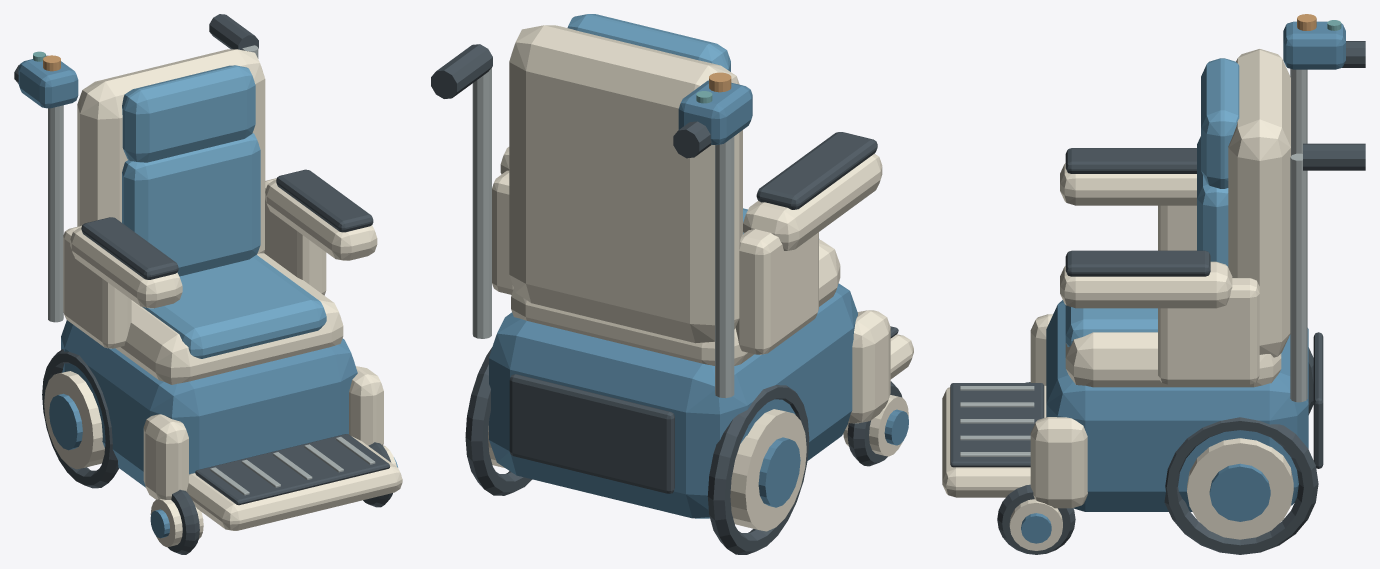
The model's file is transport_T3_wheelchair.glb.
3 renders of one model, left to right at view 1: azimuth 30°, elevation 25°; view 2: azimuth 150°, elevation 25°; view 3: azimuth 270°, elevation 25°, orthographic. The views are drawn at different scales.
Parts seen in each view (by area): view 1: transport_T3_wheelchair__Static_Assembly, left_drive_wheel__Mesh, front_caster_fairing, left_front_caster__Mesh.001, front_caster_fairing.001, right_front_caster__Mesh.001; view 2: transport_T3_wheelchair__Static_Assembly, left_drive_wheel__Mesh, front_caster_fairing, right_drive_wheel__Mesh, left_front_caster__Mesh.001; view 3: transport_T3_wheelchair__Static_Assembly, right_drive_wheel__Mesh, front_caster_fairing.001, right_front_caster__Mesh.001, front_caster_fairing.
Boxes of the visible parts, x1,y1,x2,y2 form: transport_T3_wheelchair__Static_Assembly: [14, 14, 402, 530]; left_drive_wheel__Mesh: [42, 349, 118, 488]; front_caster_fairing: [143, 414, 188, 499]; left_front_caster__Mesh.001: [150, 489, 203, 554]; front_caster_fairing.001: [349, 366, 383, 445]; right_front_caster__Mesh.001: [363, 442, 397, 507]; transport_T3_wheelchair__Static_Assembly: [431, 14, 913, 518]; left_drive_wheel__Mesh: [707, 385, 809, 554]; front_caster_fairing: [848, 310, 890, 423]; right_drive_wheel__Mesh: [465, 347, 532, 495]; left_front_caster__Mesh.001: [843, 381, 908, 466]; transport_T3_wheelchair__Static_Assembly: [942, 14, 1365, 511]; right_drive_wheel__Mesh: [1164, 417, 1318, 554]; front_caster_fairing.001: [1030, 417, 1087, 508]; right_front_caster__Mesh.001: [997, 484, 1075, 554]; front_caster_fairing: [1030, 314, 1052, 385].
Bounding box in the file's own units: 0.76 × 1.22 × 1.08.
